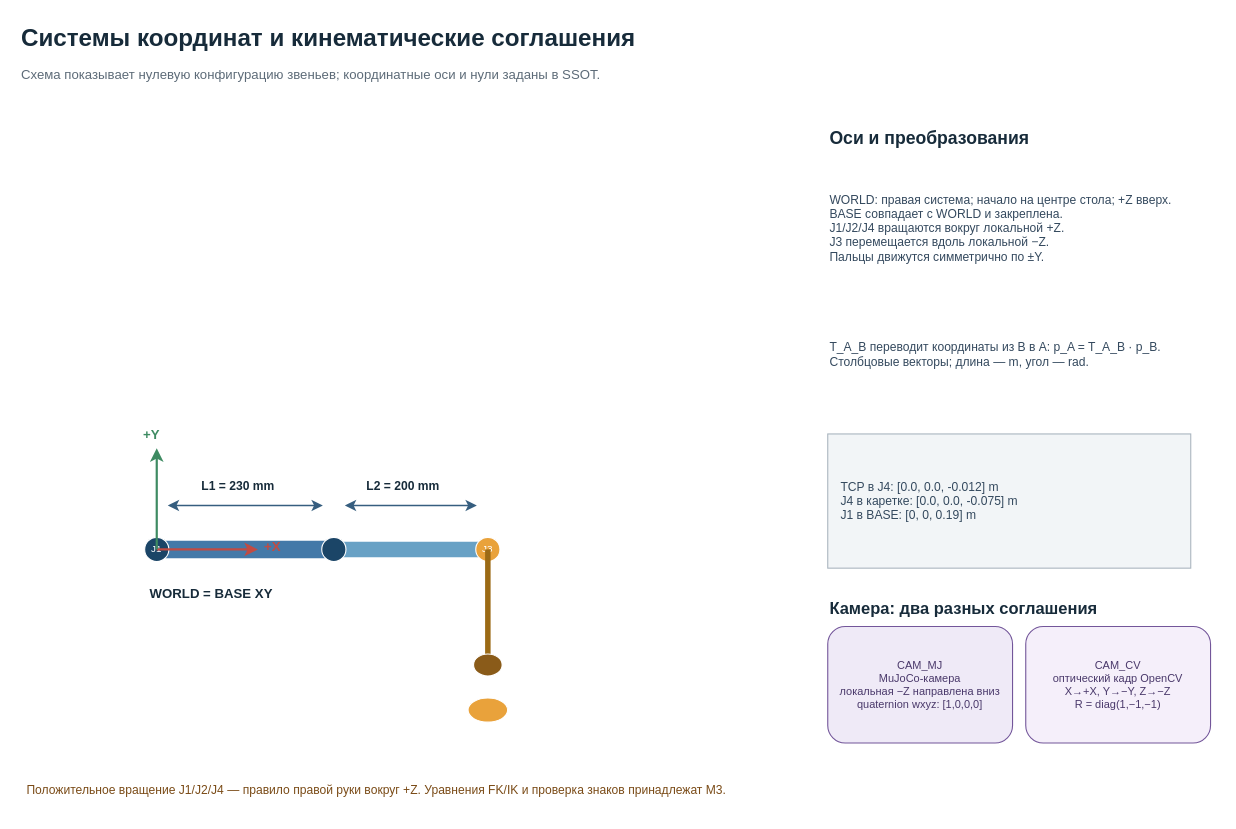
The diagram is 1236 pixels wide and 829 high, and some of its shapes have lost their labels. The box of each missing label's shape, as (x1, y1, x2, y2) in pixels:
J2: (321, 536, 346, 562)
J4: (472, 653, 502, 676)
TCP: (467, 697, 508, 722)
